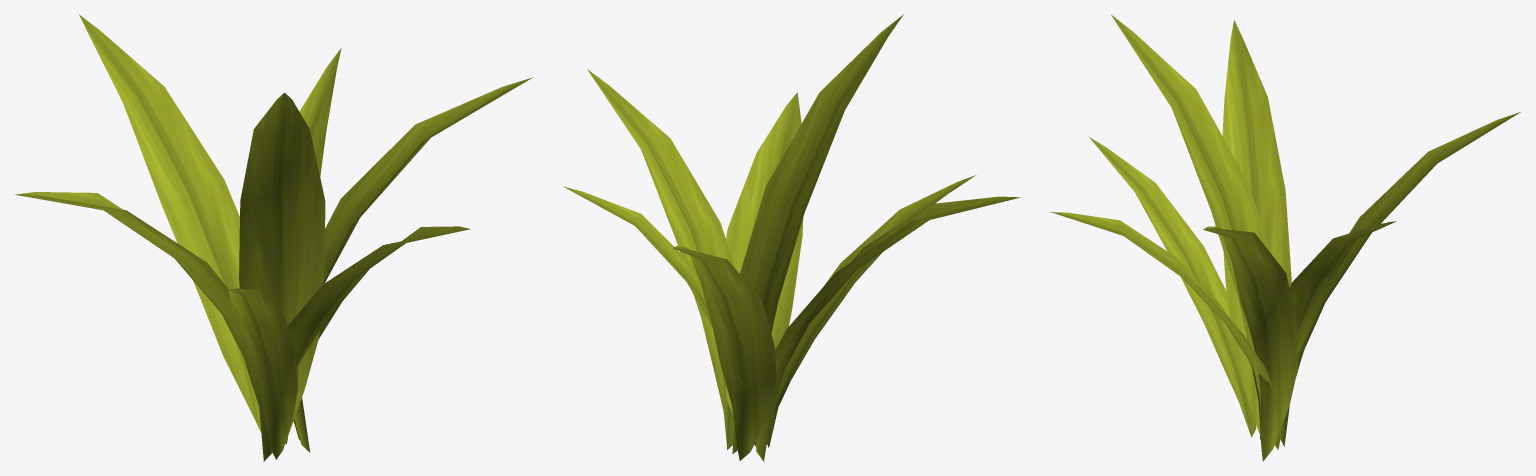
3 renders of one model, left to right at view 1: azimuth 30°, elevation 25°; view 2: azimuth 150°, elevation 25°; view 3: azimuth 270°, elevation 25°, orthographic. The views are drawn at different scales.
Parts seen in each view (by area): view 1: grass; view 2: grass; view 3: grass.
Part boxes in pixels (x1,y1,x2,y2): grass: [15, 14, 532, 461]; grass: [563, 14, 1020, 461]; grass: [1050, 14, 1520, 461].
Size of the model in its own units: 6.22 by 5.33 by 5.7.
Materials: 1 (1 with a texture image).
